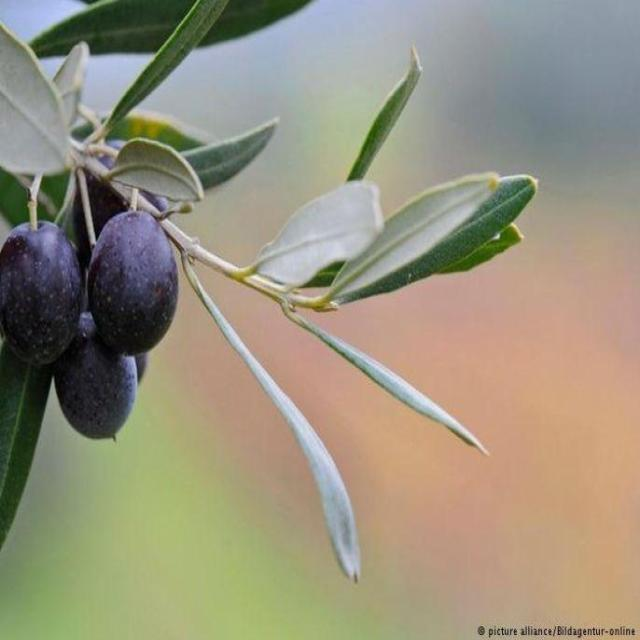Healthy: (89, 210, 178, 356), (0, 221, 86, 366), (103, 137, 204, 199)
